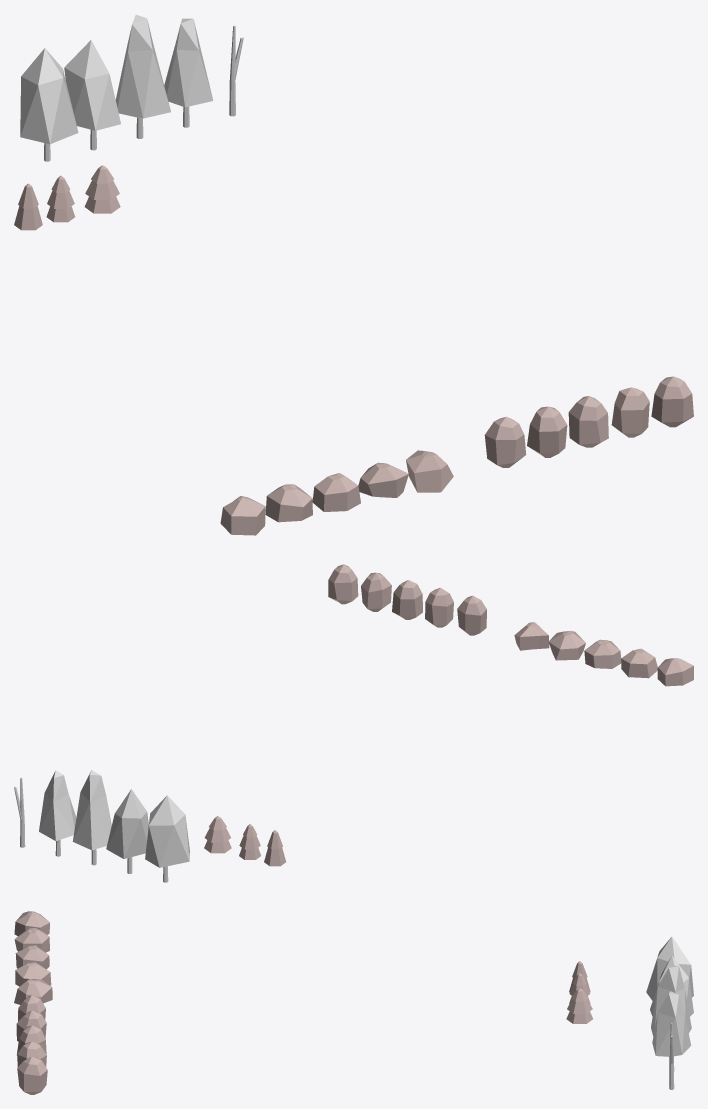
File: Trees.fbx
3 renders of one model, top to bottom at view 1: azimuth 30°, elevation 25°; view 2: azimuth 150°, elevation 25°; view 3: azimuth 270°, elevation 25°, orthographic. The views are drawn at different scales.
Visible parts, largest first — view 1: Lime Tree Leafs.000, Lime Tree Leafs.002, Lime Tree Leafs.001, Lime Tree Leafs.003, TreeLeafs.007, TreeLeafs.009, TreeLeafs.004, TreeLeafs.006, TreeLeafs.008, TreeLeafs.000, TreeLeafs.003, TreeLeafs.002 (+5 smaller); view 2: Lime Tree Leafs.000, Lime Tree Leafs.002, Lime Tree Leafs.001, Lime Tree Leafs.003, TreeLeafs.007, TreeLeafs.009, TreeLeafs.008, TreeLeafs.004, TreeLeafs.006, TreeLeafs.002, TreeLeafs.005, TreeLeafs.001 (+5 smaller); view 3: Lime Tree Leafs.003, Lime Tree Leafs.002, Lime Tree Leafs.000, TreeLeafs.009, TreeFir.000, TreeLeafs.000, TreeLeafs.003, TreeLeafs.005, TreeLeafs.001, TreeLeafs.002, Lime Tree Leafs.001, TreeLeafs.006 (+3 smaller).
Boxes of the visible parts, x1,y1,x2,y2 form: Lime Tree Leafs.000: (20,48,78,144); Lime Tree Leafs.002: (115,14,170,118); Lime Tree Leafs.001: (64,40,120,130); Lime Tree Leafs.003: (164,18,213,107); TreeLeafs.007: (568,396,608,447); TreeLeafs.009: (651,376,693,427); TreeLeafs.004: (484,416,526,467); TreeLeafs.006: (527,406,567,457); TreeLeafs.008: (611,387,649,437); TreeLeafs.000: (406,450,453,492); TreeLeafs.003: (265,484,312,522); TreeLeafs.002: (312,473,360,511); Lime Tree Leafs.000: (145,795,189,867); Lime Tree Leafs.002: (72,770,111,850); Lime Tree Leafs.001: (106,789,148,858); Lime Tree Leafs.003: (39,770,76,840); TreeLeafs.007: (392,580,422,619); TreeLeafs.009: (328,564,358,604); TreeLeafs.008: (361,572,391,611); TreeLeafs.004: (457,595,486,635); TreeLeafs.006: (425,587,453,627); TreeLeafs.002: (584,639,621,668); TreeLeafs.005: (657,658,693,686); TreeLeafs.001: (548,630,585,660); Lime Tree Leafs.003: (652,991,691,1056); Lime Tree Leafs.002: (651,965,691,1035); Lime Tree Leafs.000: (646,937,693,1000); TreeLeafs.009: (17,1056,47,1094); TreeFir.000: (566,988,592,1023); TreeLeafs.000: (14,979,52,1004); TreeLeafs.003: (14,928,49,952); TreeLeafs.005: (14,911,49,935); TreeLeafs.001: (15,962,51,986); TreeLeafs.002: (15,945,49,969); Lime Tree Leafs.001: (650,956,693,1016); TreeLeafs.006: (16,1010,46,1041).
Size of the model in its own units: 10000 by 2465 by 17022.
